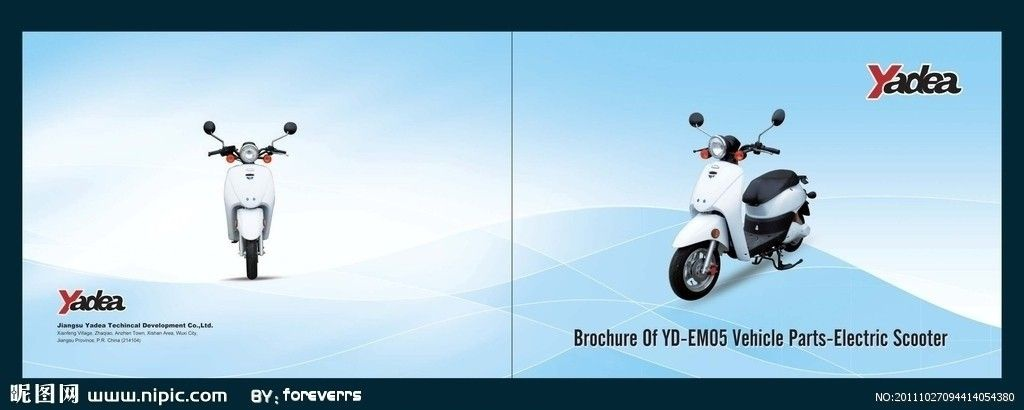non-vehicle: (667, 102, 825, 308), (198, 118, 306, 295)
